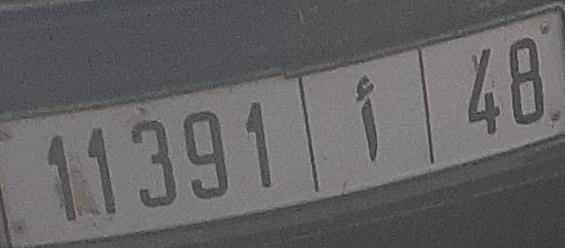1: (45, 132, 81, 223), (242, 100, 276, 190), (85, 126, 119, 215)
3: (129, 120, 179, 209)
4: (464, 46, 503, 138)
8: (506, 36, 546, 126)
9: (180, 108, 233, 201)
a: (350, 72, 384, 164)
